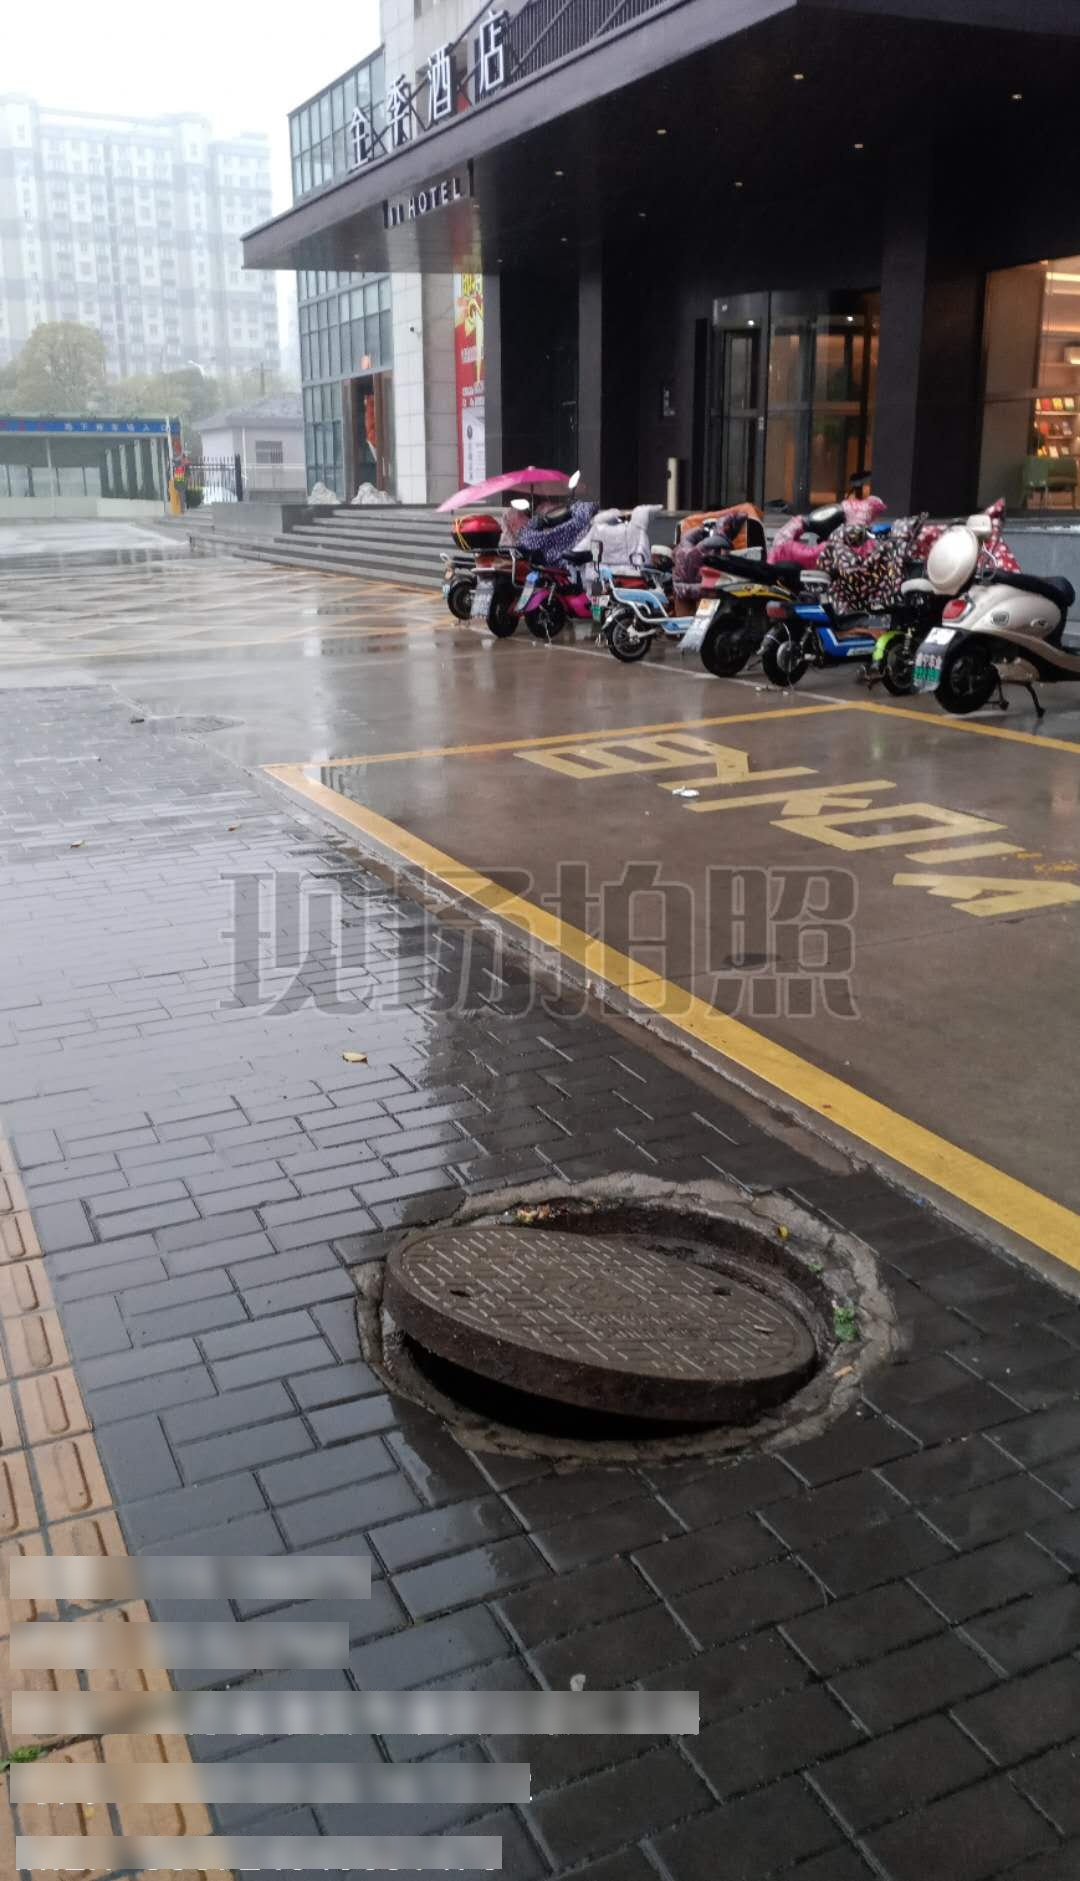uncovered: (359, 1169, 877, 1457)
